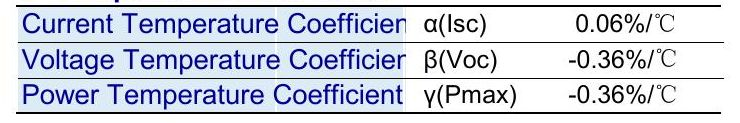table: (9, 2, 732, 119)
table column: (18, 6, 408, 112), (540, 5, 716, 116), (414, 6, 531, 116)
table row: (11, 45, 730, 76), (11, 81, 730, 111), (12, 9, 726, 39)
